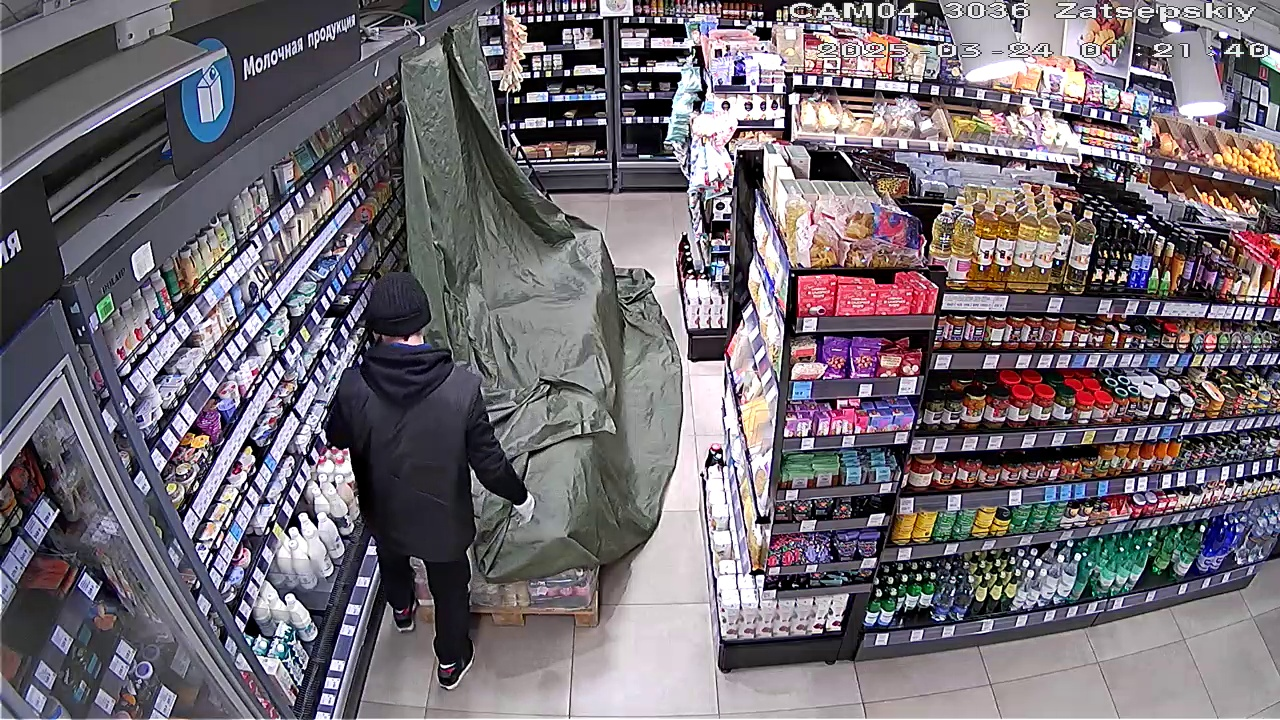Human: (321, 270, 536, 685)
dome: (399, 49, 679, 566)
